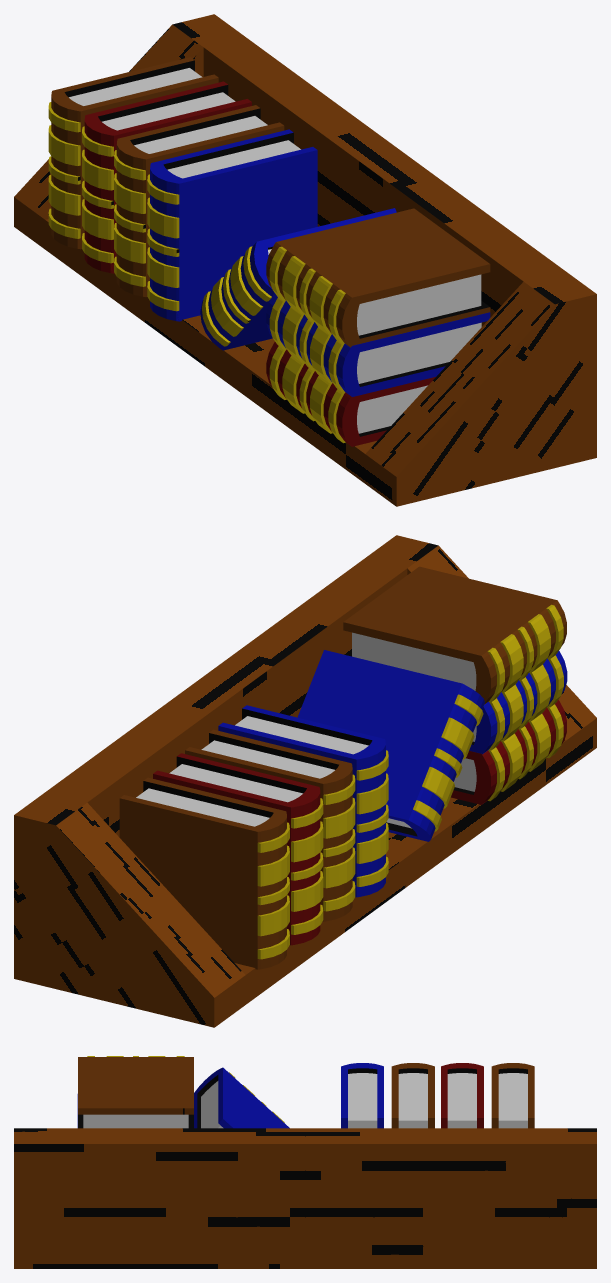
The model's file is ObjectsForThereWFR(BookText) 1.fbx.
3 views of the same model, one above another, from view 1: azimuth 30°, elevation 25°; view 2: azimuth 150°, elevation 25°; view 3: azimuth 270°, elevation 25° (orthographic). The views are drawn at different scales.
Parts seen in each view (by area): view 1: Cube.007; view 2: Cube.007; view 3: Cube.007.
Boxes of the visible parts, x1,y1,x2,y2 form: Cube.007: (14, 14, 596, 506); Cube.007: (14, 535, 596, 1027); Cube.007: (14, 1056, 596, 1268).
Bounding box in the file's own units: 551 × 437 × 1695.
